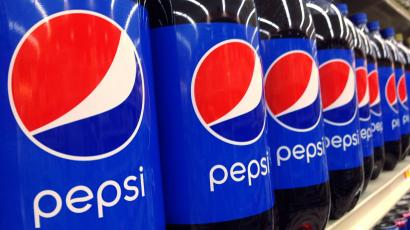pepsi: (7, 8, 145, 159), (9, 6, 145, 159), (188, 34, 264, 144), (188, 37, 264, 144), (190, 37, 264, 144), (262, 48, 323, 130), (262, 48, 323, 128), (262, 48, 321, 130), (318, 57, 355, 125), (318, 57, 355, 123), (355, 66, 371, 121), (355, 66, 369, 121), (367, 69, 382, 117), (367, 69, 380, 117), (367, 69, 380, 116), (385, 70, 398, 112), (397, 73, 407, 110)
